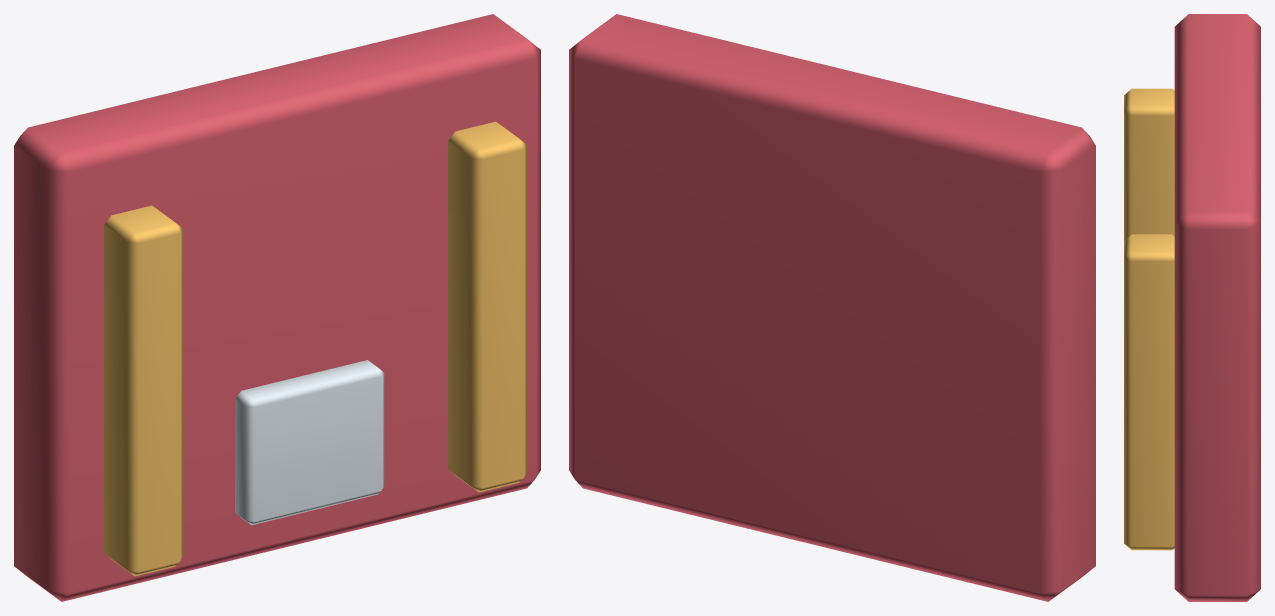
File: armor.glb
The picture shows the model from 3 angles, left to right: view 1: azimuth 30°, elevation 25°; view 2: azimuth 150°, elevation 25°; view 3: azimuth 270°, elevation 25°; orthographic projection. The views are drawn at different scales.
Visible parts, largest first — view 1: armor | main plate, armor | right rib, armor | left rib, armor | center badge; view 2: armor | main plate; view 3: armor | main plate, armor | right rib, armor | left rib.
Boxes of the visible parts, x1,y1,x2,y2 form: armor | main plate: (14, 14, 540, 601); armor | right rib: (448, 121, 526, 492); armor | left rib: (104, 205, 182, 576); armor | center badge: (235, 360, 384, 525); armor | main plate: (569, 14, 1095, 601); armor | main plate: (1174, 14, 1260, 601); armor | right rib: (1124, 234, 1174, 550); armor | left rib: (1124, 88, 1174, 240).
Bounding box in the file's own units: 1.95 × 1.7 × 0.54.
